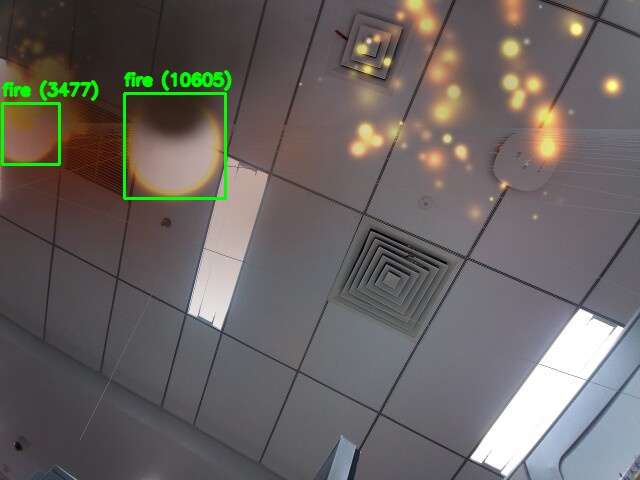fire: (124, 93, 225, 198), (2, 103, 59, 164)
